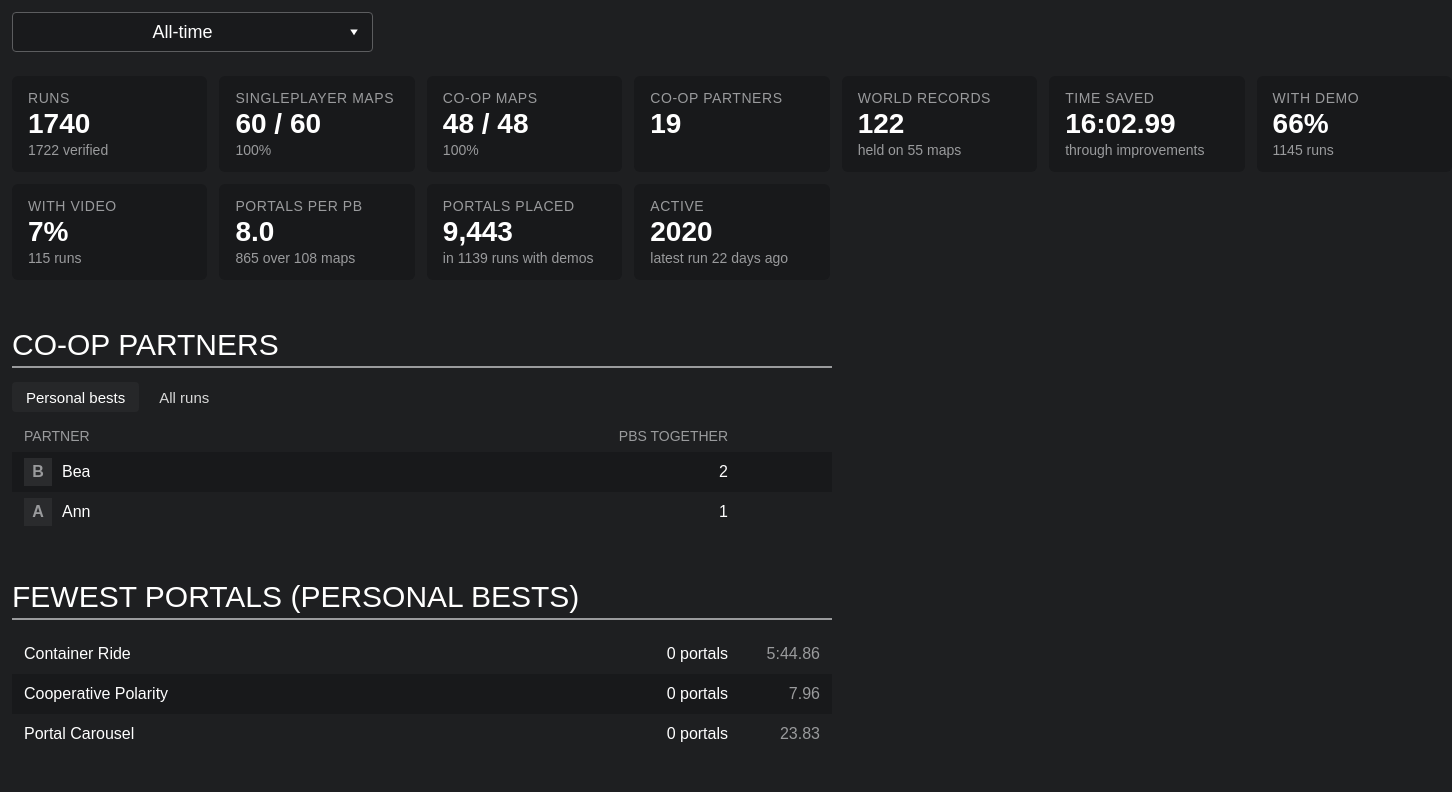
Test case: StatsTab › shows the player's figures, co-op partners and fewest portals
Expected: the text "1740" is shown, 28,108 -> 90,139
Expected: the text "1722 verified" is shown, 28,142 -> 108,158
# Every run: the fixture lists 4 of the 19 partners.
Click the radio button labelled "All runs" at (184, 397), box 145,382 -> 223,412
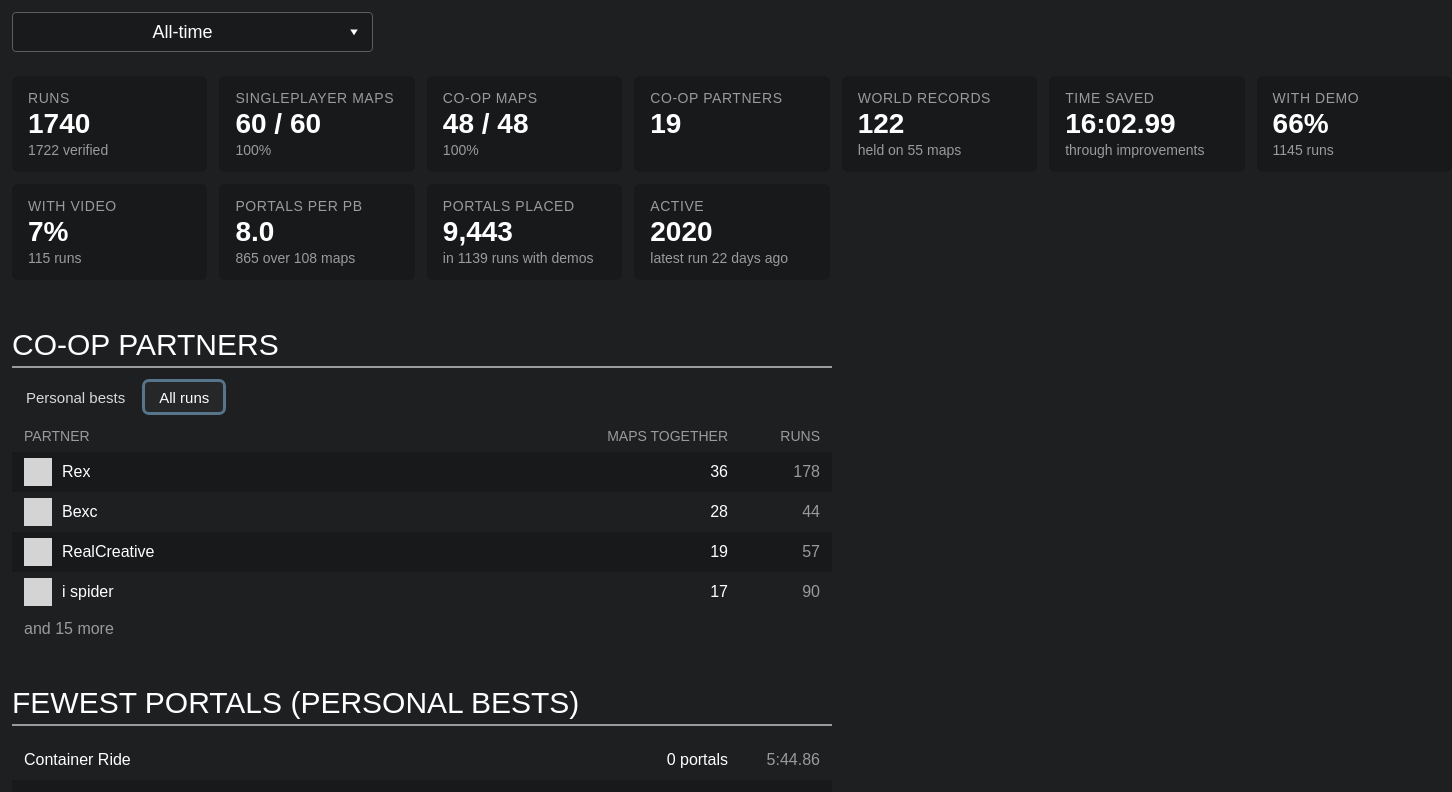
Result: the text "Maps together" is shown at 588,428 -> 728,444
Result: the text "and 15 more" is shown at 24,620 -> 114,637
